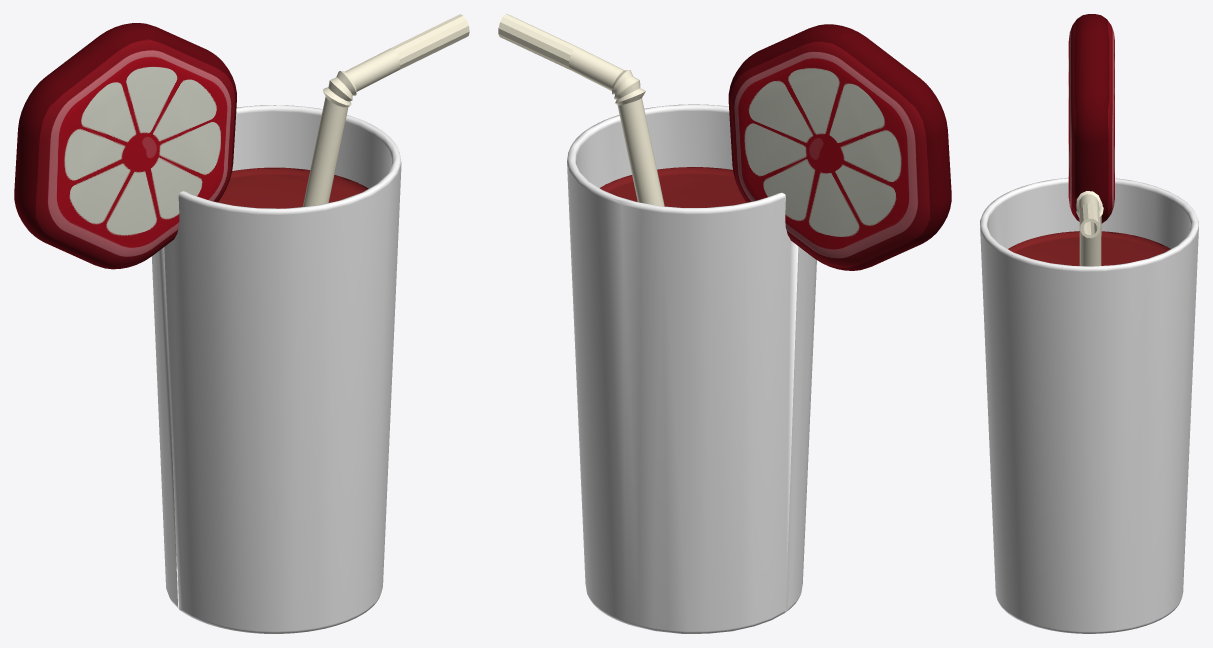
File: juice_glass.fbx
3 renders of one model, left to right at view 1: azimuth 30°, elevation 25°; view 2: azimuth 150°, elevation 25°; view 3: azimuth 270°, elevation 25°, orthographic. The views are drawn at different scales.
Parts seen in each view (by area): view 1: glass.001, Circle.031, JuiceBox.015, milk.001; view 2: glass.001, Circle.031, JuiceBox.015, milk.001; view 3: glass.001, Circle.031, milk.001, JuiceBox.015.
Boxes of the visible parts, x1,y1,x2,y2 form: glass.001: (152,105,401,633); Circle.031: (14,23,236,269); JuiceBox.015: (302,14,469,206); milk.001: (218,167,368,208); glass.001: (567,104,816,633); Circle.031: (728,24,951,270); JuiceBox.015: (498,14,664,206); milk.001: (600,167,746,207); glass.001: (980,177,1198,633); Circle.031: (1068,14,1114,223); milk.001: (1008,231,1170,265); JuiceBox.015: (1076,191,1103,266).
Bounding box in the file's own units: 1367 × 1751 × 674.
Materials: 4 (2 with a texture image).
